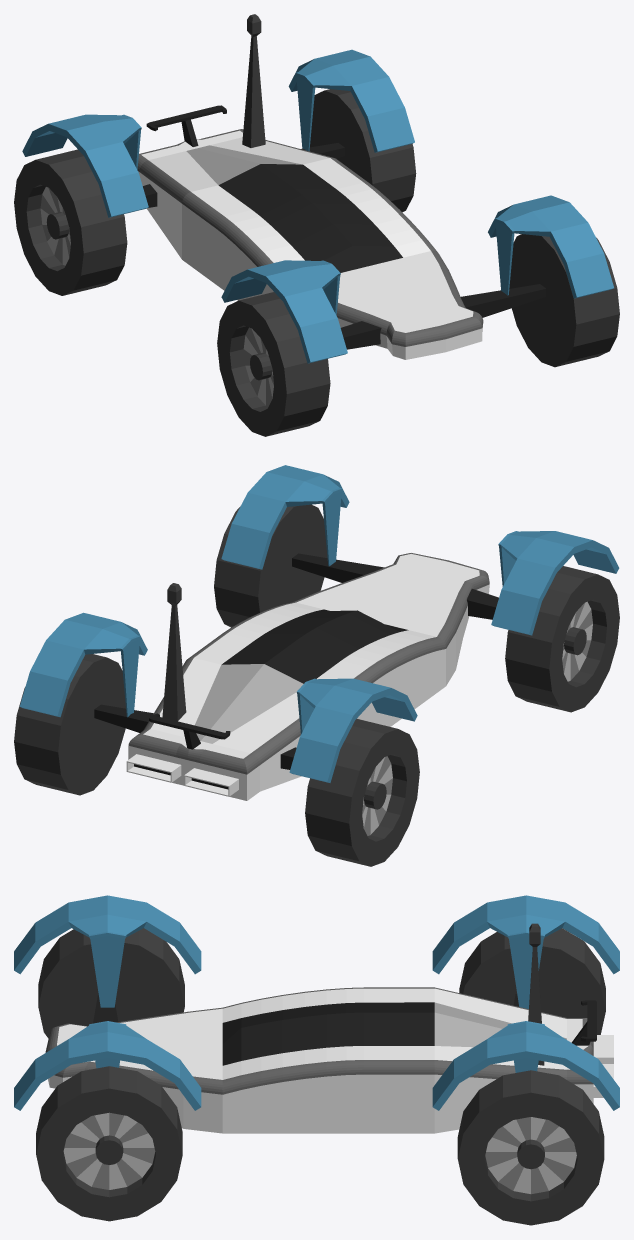
File: future-vehicle.glb
3 renders of one model, top to bottom at view 1: azimuth 30°, elevation 25°; view 2: azimuth 150°, elevation 25°; view 3: azimuth 270°, elevation 25°, orthographic. The views are drawn at different scales.
Parts seen in each view (by area): view 1: chassis, extra-car-stuff, back-right-tire, front-right-tire, front-left-tire, back-left-tire; view 2: chassis, extra-car-stuff, back-right-tire, front-right-tire, back-left-tire, front-left-tire; view 3: chassis, extra-car-stuff, back-left-tire, front-left-tire, front-right-tire, back-right-tire.
Boxes of the visible parts, box(x1,y1,x2,y2) form: chassis: box(137, 14, 546, 359); extra-car-stuff: box(22, 49, 613, 363); back-right-tire: box(14, 149, 127, 295); front-right-tire: box(217, 292, 330, 436); front-left-tire: box(509, 234, 619, 367); back-left-tire: box(310, 89, 416, 212); chassis: box(94, 553, 498, 800); extra-car-stuff: box(19, 465, 619, 782); back-right-tire: box(305, 719, 419, 866); front-right-tire: box(505, 566, 619, 712); back-left-tire: box(14, 654, 125, 795); front-left-tire: box(214, 504, 327, 627); chassis: box(45, 923, 613, 1133); extra-car-stuff: box(14, 895, 619, 1110); back-left-tire: box(457, 1070, 604, 1225); front-left-tire: box(36, 1066, 182, 1221); front-right-tire: box(38, 928, 184, 1038); back-right-tire: box(459, 928, 605, 1034).
Bounding box in the file's own units: 4.16 × 2.66 × 6.2.
1 material, 1 textured.
